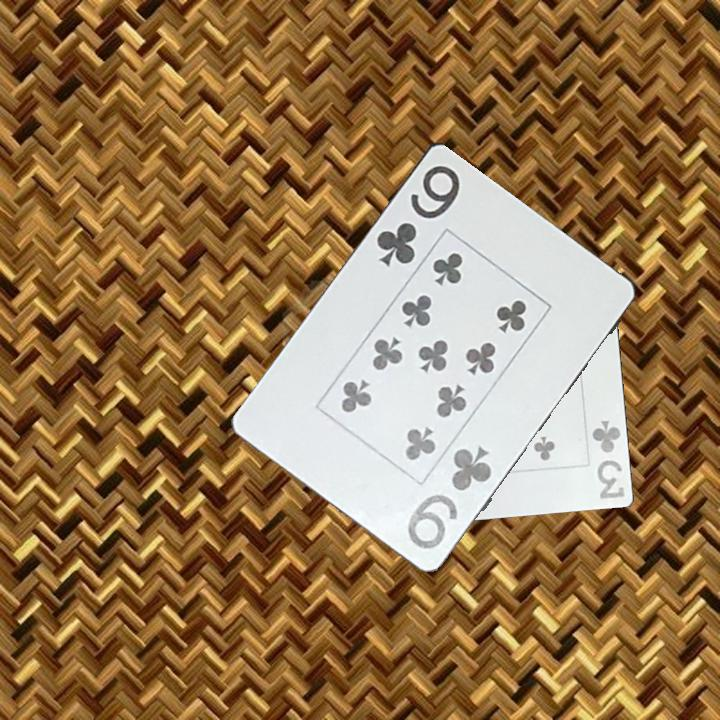3c: (588, 416, 627, 502)
9c: (403, 441, 495, 552), (372, 160, 463, 270)
